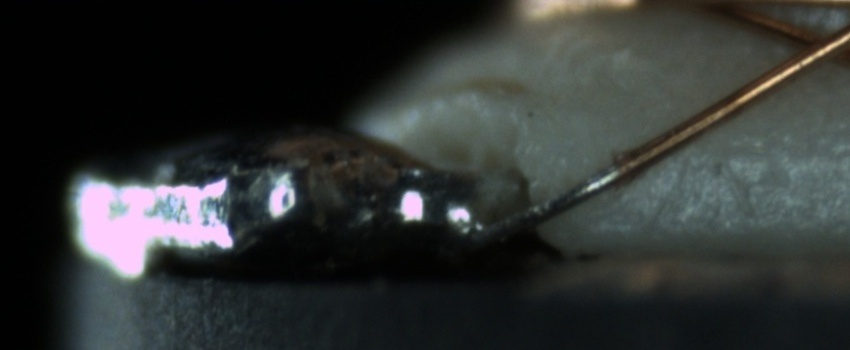CL: (782, 18, 847, 74)
DL: (687, 121, 849, 185)
TS: (470, 164, 620, 245)
